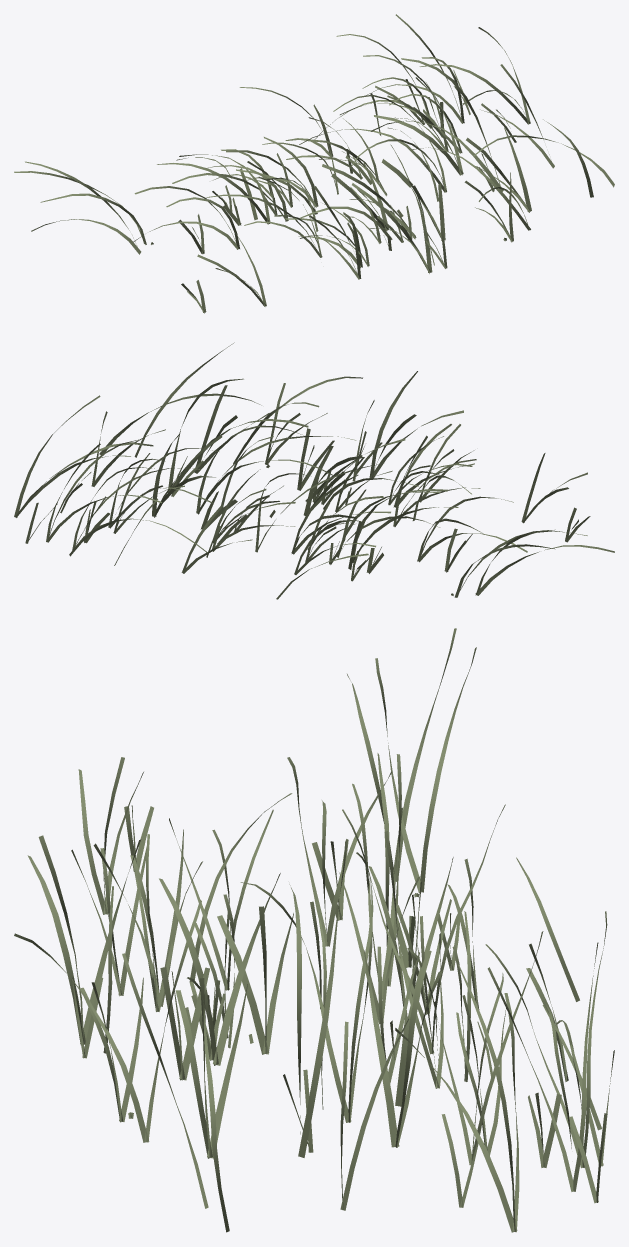
Rendered from grass.fbx.
The picture shows the model from 3 angles, top to bottom: view 1: azimuth 30°, elevation 25°; view 2: azimuth 150°, elevation 25°; view 3: azimuth 270°, elevation 25°; orthographic projection. The views are drawn at different scales.
Parts seen in each view (by area): view 1: grassWindWide1Main4; view 2: grassWindWide1Main4; view 3: grassWindWide1Main4.
Boxes of the visible parts, x1,y1,x2,y2 form: grassWindWide1Main4: (14,14,614,313); grassWindWide1Main4: (14,342,614,599); grassWindWide1Main4: (14,628,614,1232).
Bounding box in the file's own units: 4.36 × 1.11 × 2.45.
